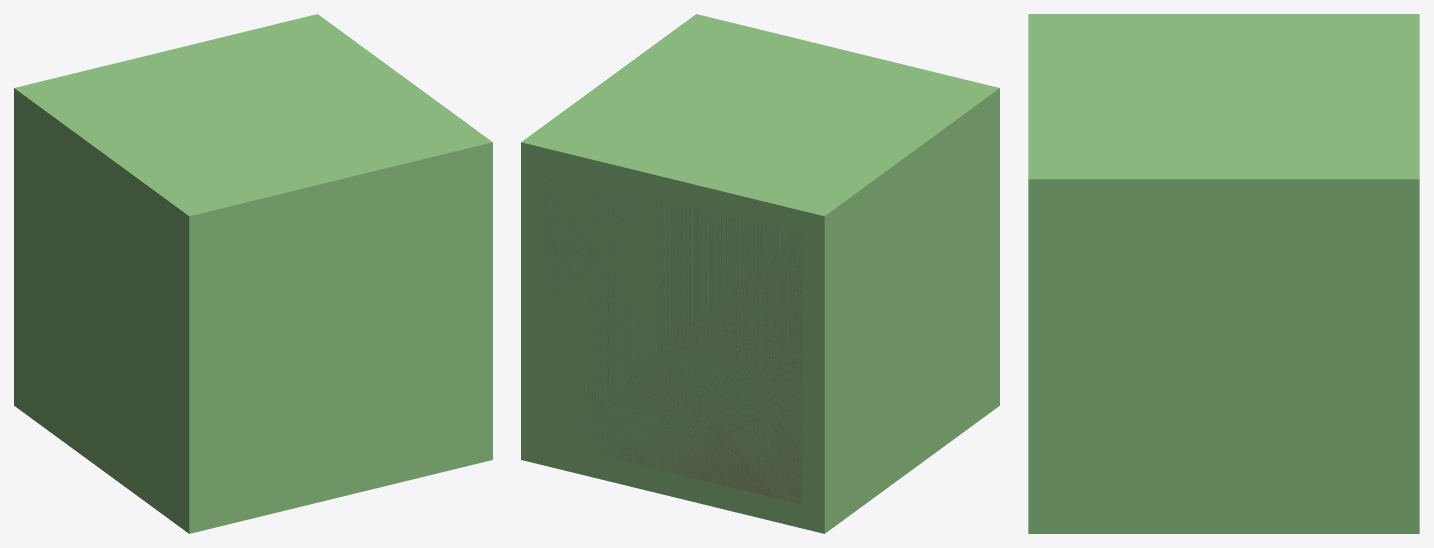
File: 56_hanging_vine.glb
The picture shows the model from 3 angles, left to right: view 1: azimuth 30°, elevation 25°; view 2: azimuth 150°, elevation 25°; view 3: azimuth 270°, elevation 25°; orthographic projection. The views are drawn at different scales.
Parts seen in each view (by area): view 1: Core; view 2: Core, Soil; view 3: Core.
Boxes of the visible parts, x1,y1,x2,y2 form: Core: (14,14,492,533); Core: (521,14,999,533); Soil: (544,173,801,503); Core: (1028,14,1419,533).
Size of the model in its own units: 1 by 1 by 1.
